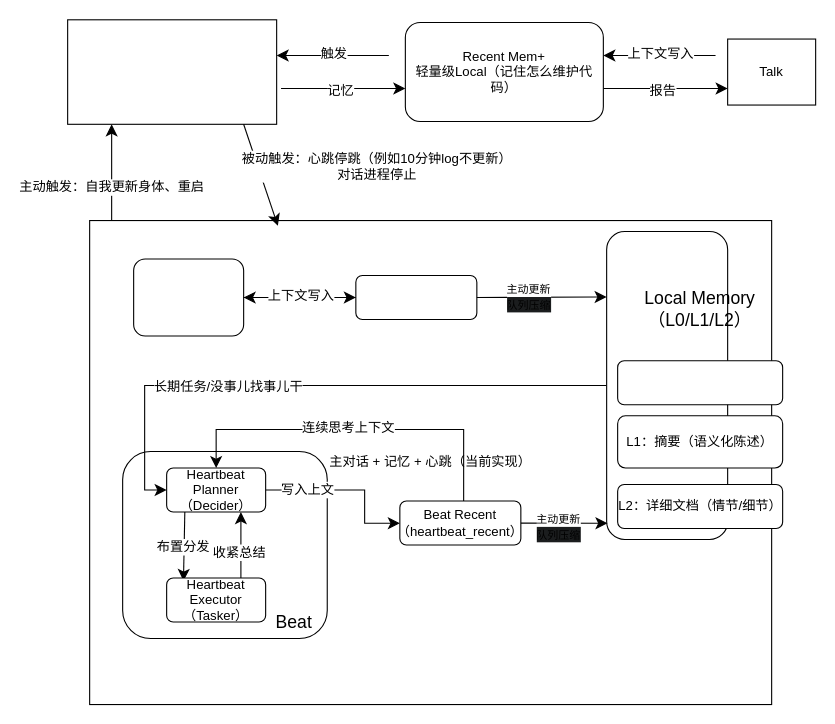
Image size: 835x724. Some labels were removed from this diagram. The shapes that lost their labels are listed below. From the top down, each one's centre as x and y in pixels, then its label:
pixel 172 71: Gaurdian职责：维护正常运行， 接收、审阅反馈、执行来自heartbeat的有限度的自我更新
pixel 188 297: Talk 对话流
pixel 416 297: Talk Recent（talk_recent）
pixel 700 382: L0：索引（当前结论/适用情景）
